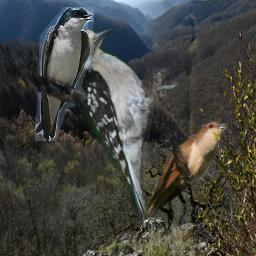Cuckoo: (143, 121, 228, 221)
Swallow: (35, 7, 94, 141)
Woodpecker: (54, 27, 179, 223)
